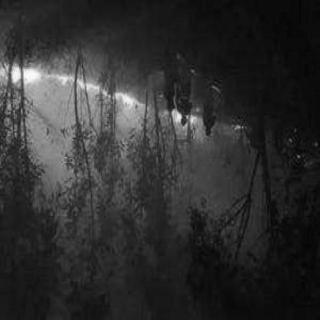Fire: (3, 64, 143, 116), (152, 114, 252, 162)
